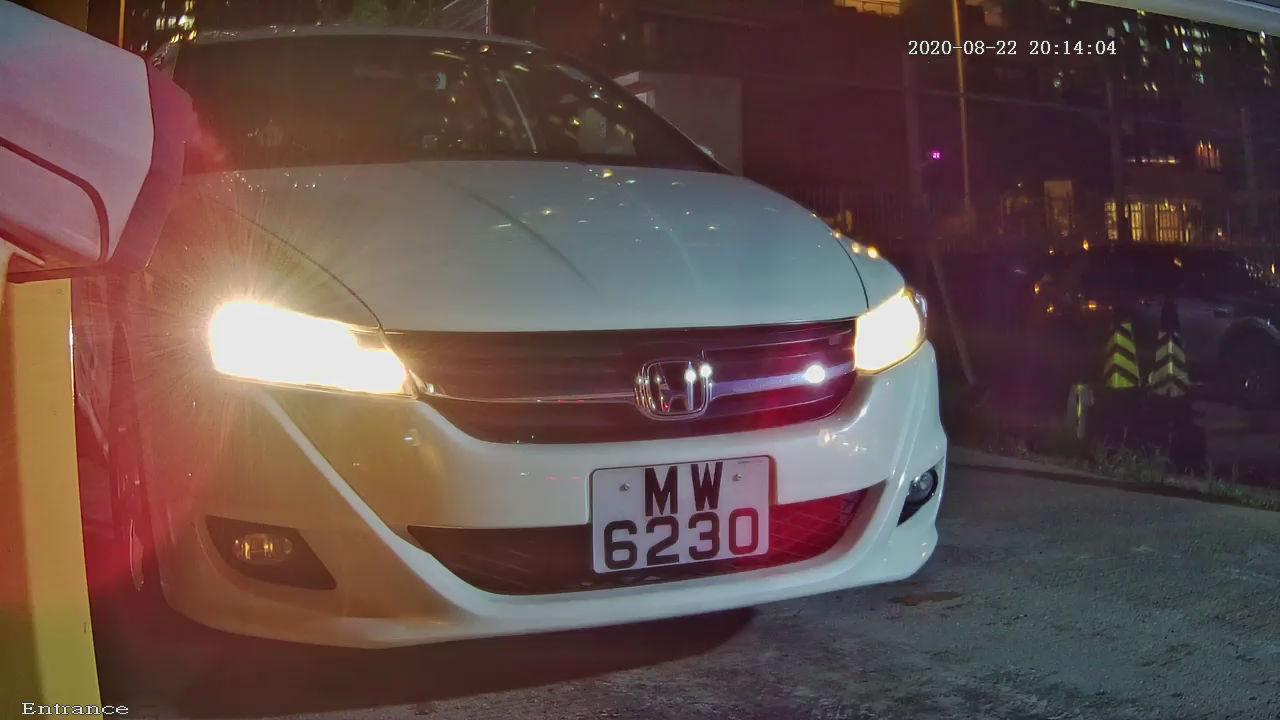Car: (52, 4, 1063, 695)
License Plate: (561, 425, 807, 589)
